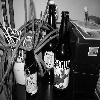beer: (52, 11, 75, 95)
